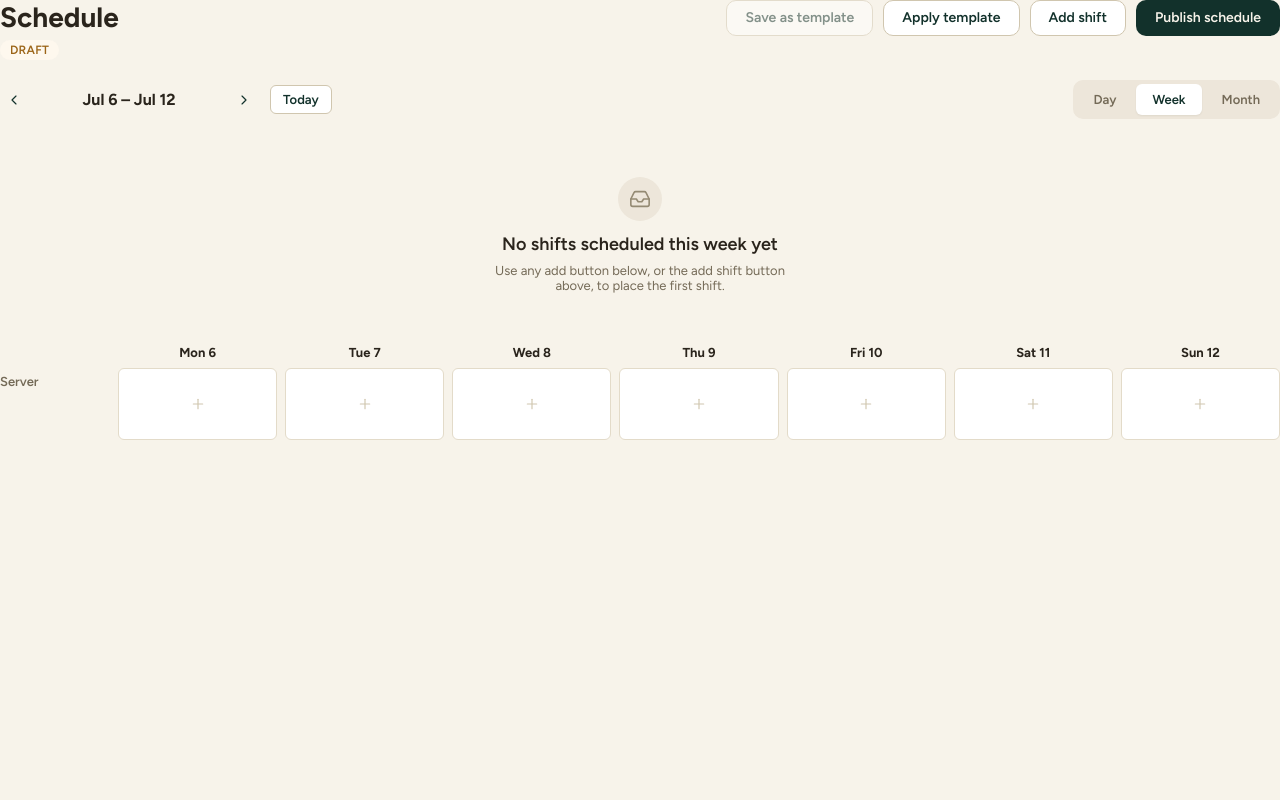
Test case: ScheduleView header › draft week shows the publish button with the assigned count in the dialog
The image size is (1280, 800).
Click the button "Publish schedule" at (1208, 18), box [1136, 0, 1279, 36]
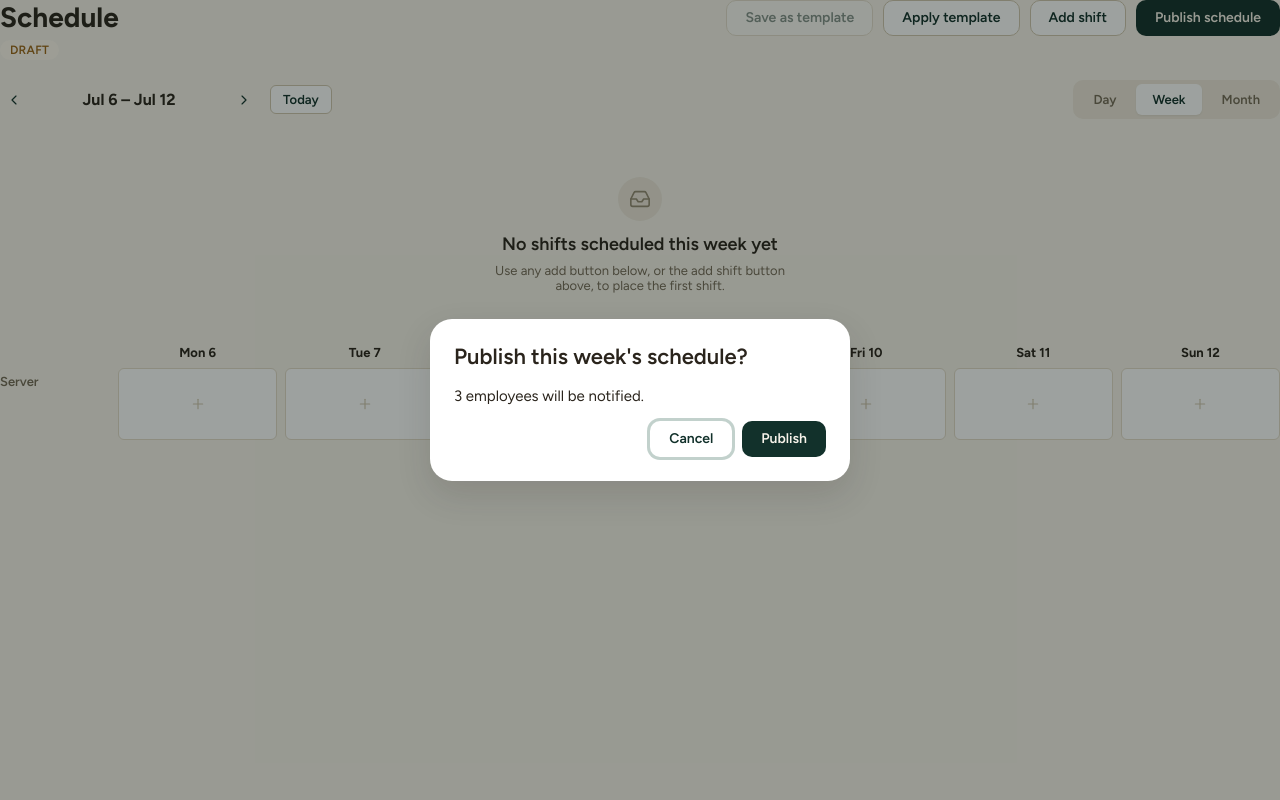
Expected: the heading "Publish this week's schedule?" is shown, [454, 343, 748, 370]
Expected: the text "3 employees will be notified." is shown, [454, 387, 644, 405]
